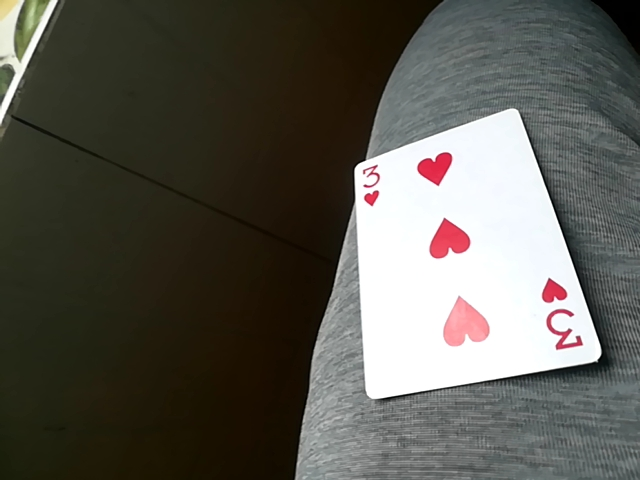hx 3: (348, 104, 604, 401)
